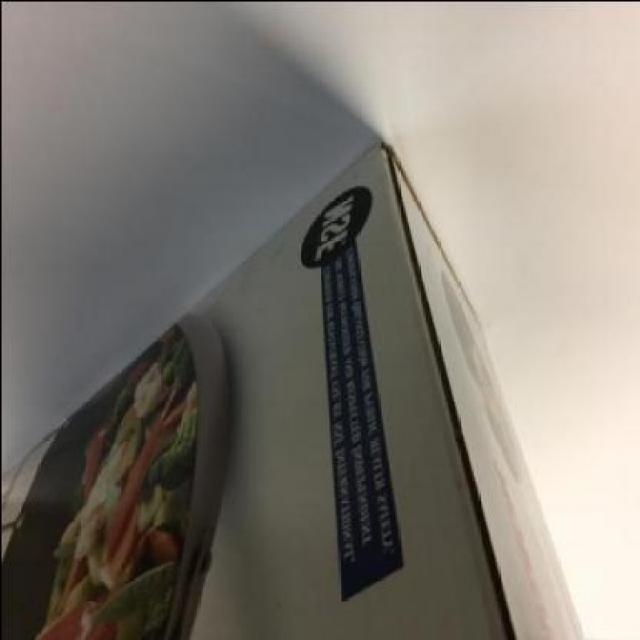box: (2, 139, 583, 639)
